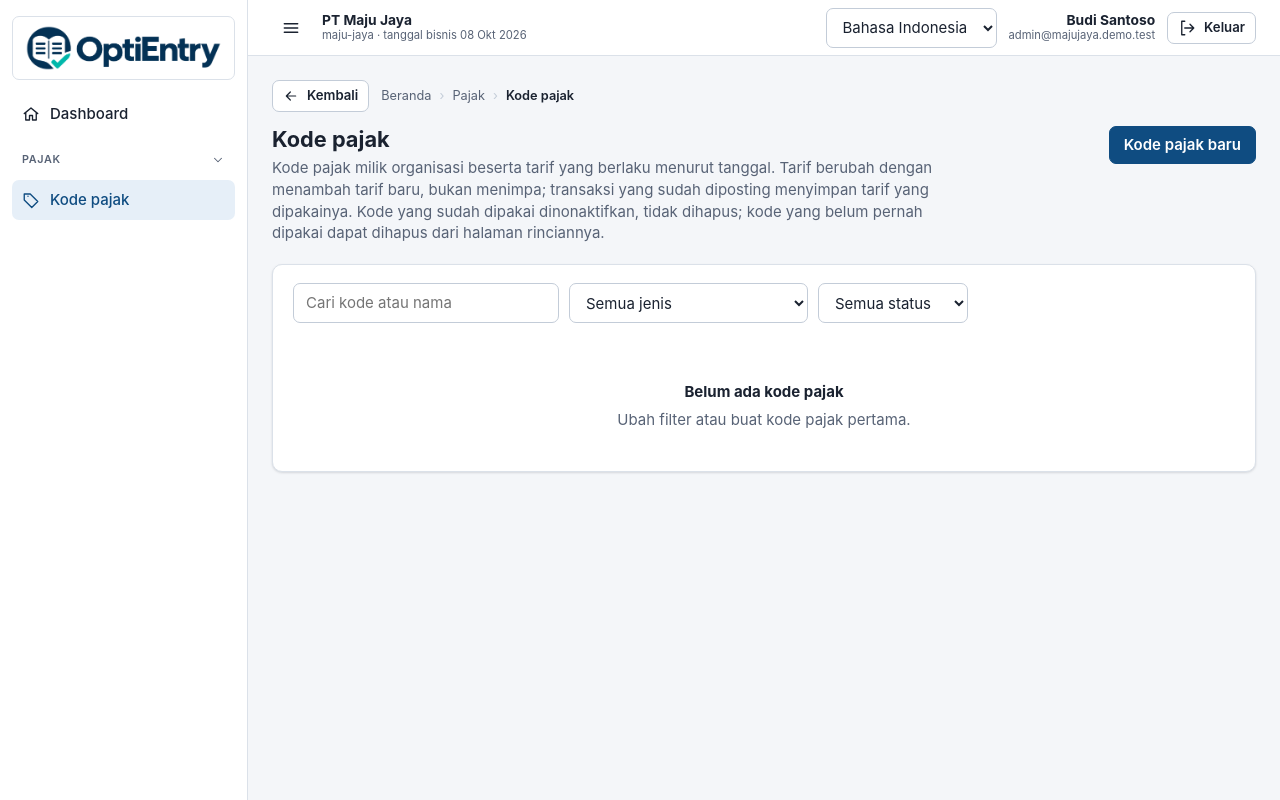
Test: tax codes list › shows an Indonesian message when the API refuses the new code
This screenshot has width=1280, height=800.
Click the button "Kode pajak baru": (1182, 145) [1109, 126, 1256, 164]
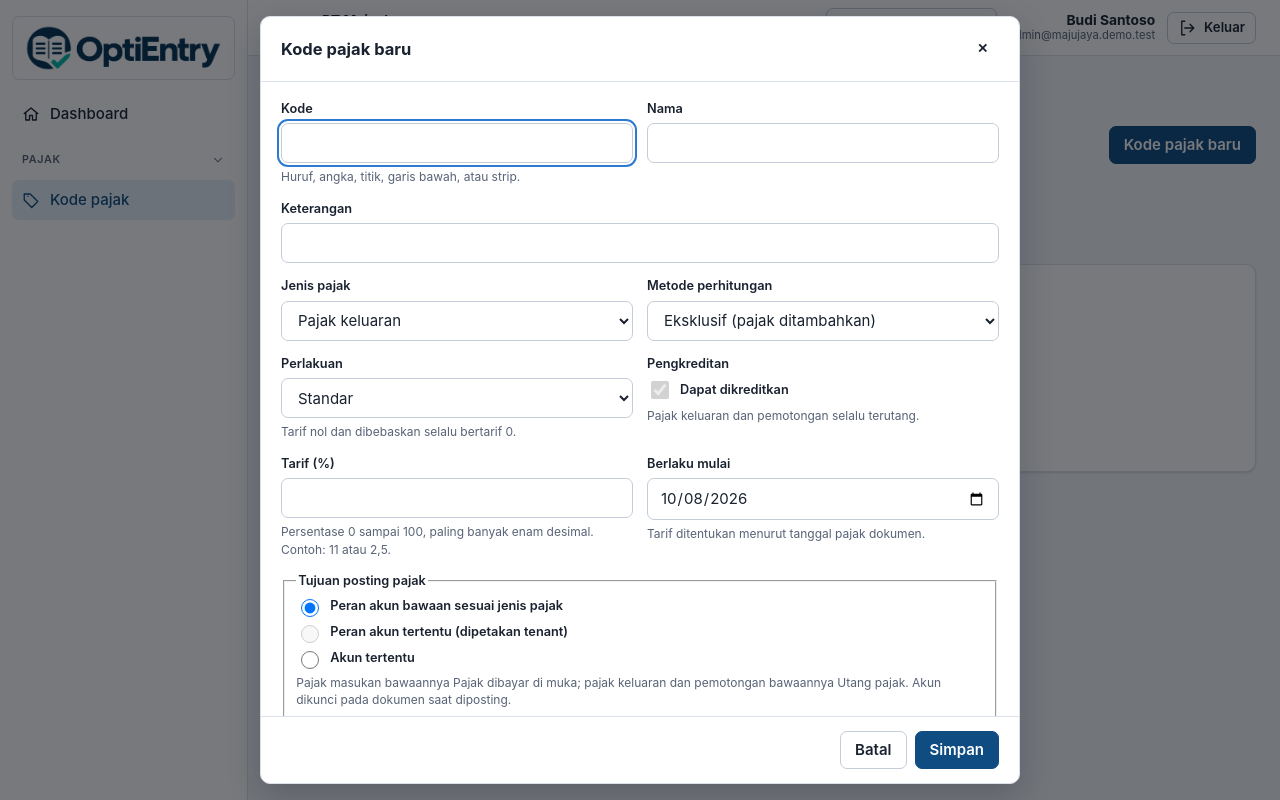
In the field labelled "Kode": (457, 144) [281, 124, 633, 164], type "PPN"
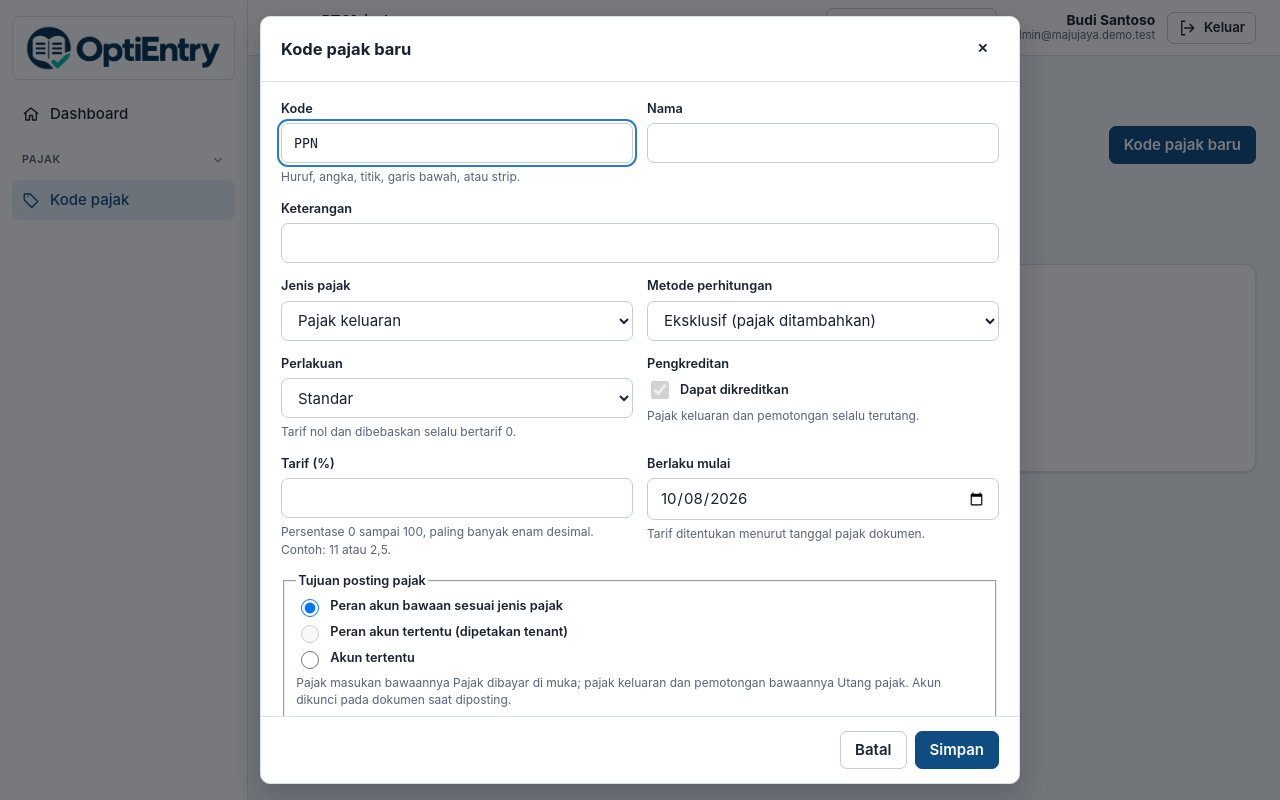
In the field labelled "Nama": (823, 144) [647, 124, 999, 164], type "PPN"
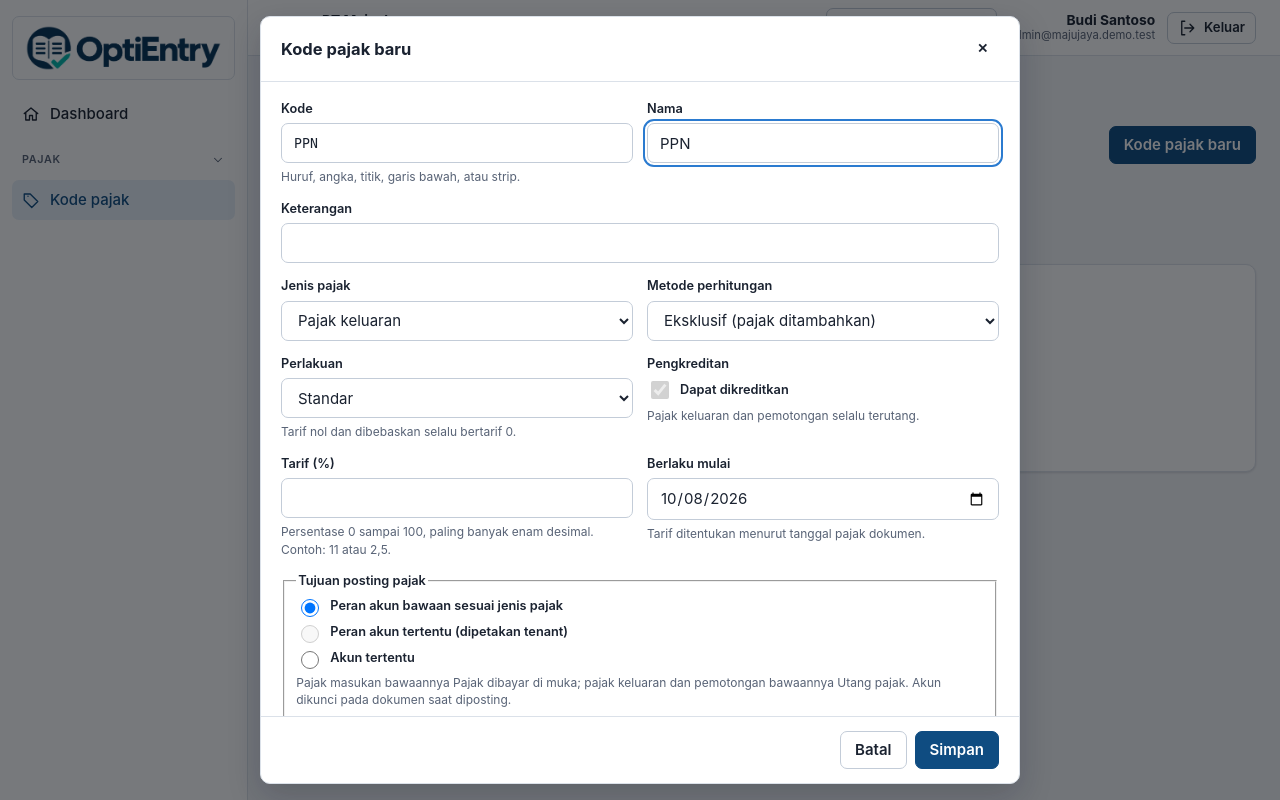
In the field labelled "Tarif (%)": (457, 498) [281, 478, 633, 518], type "11"
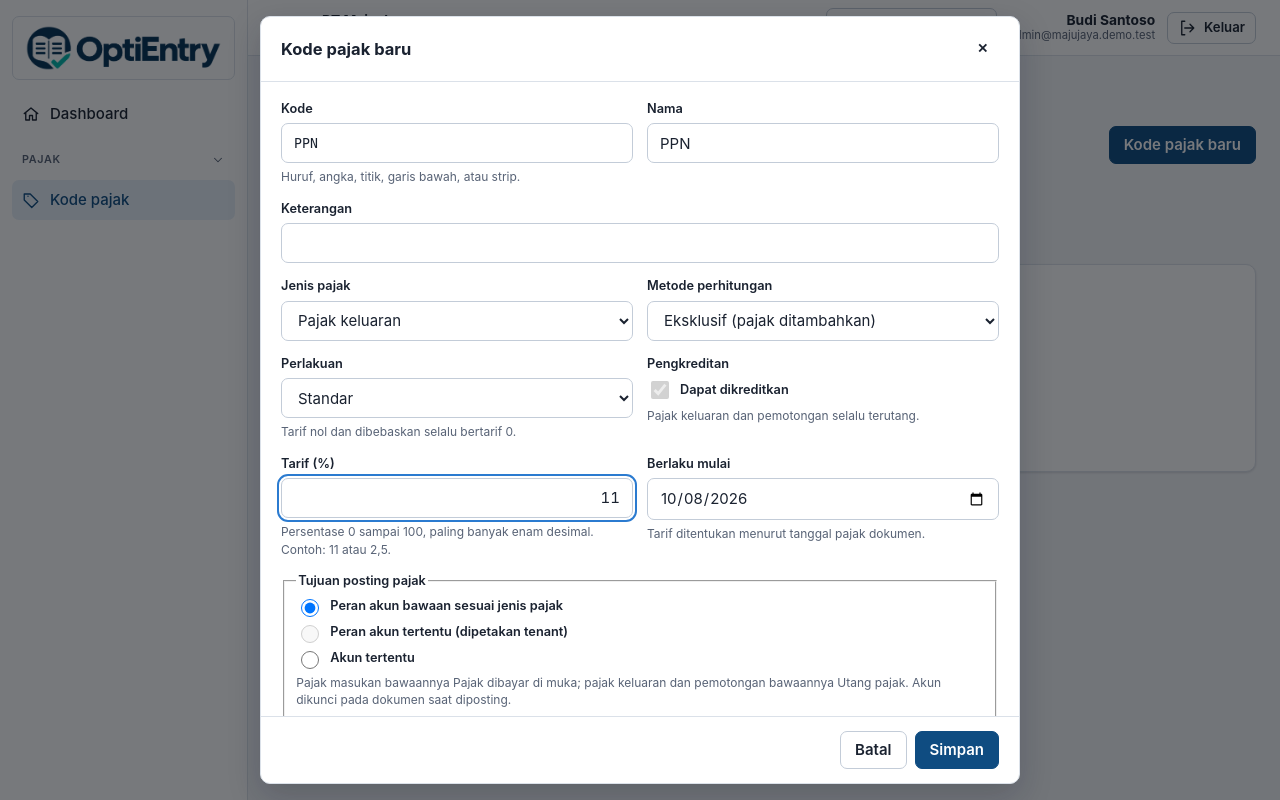
Click the button "Simpan": (957, 750) [914, 731, 999, 769]
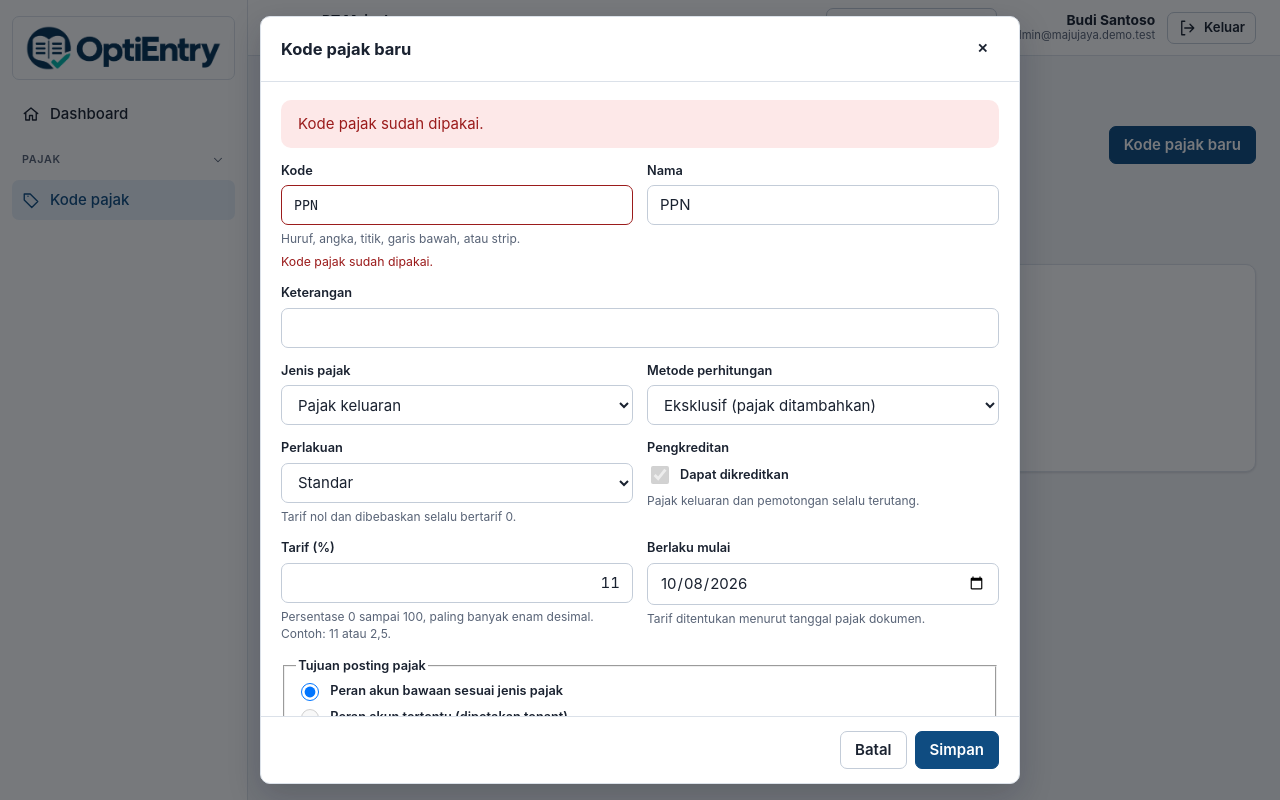
Expected: the dialog is shown, [260, 16, 1020, 784]
Expected: the 1st text "Kode pajak sudah dipakai." is shown, [298, 113, 484, 135]
